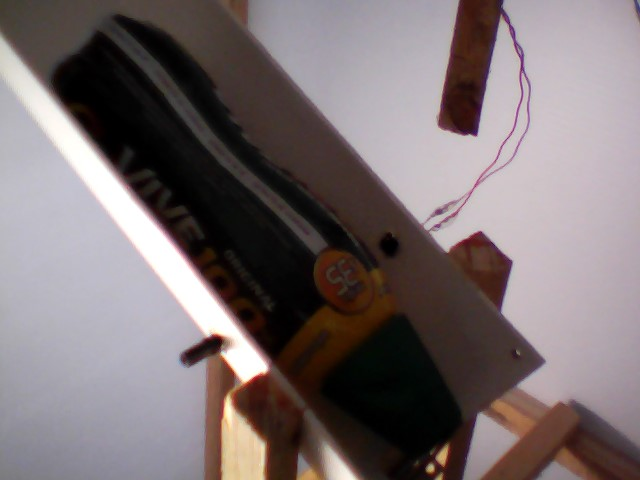plastico: (37, 10, 476, 459)
